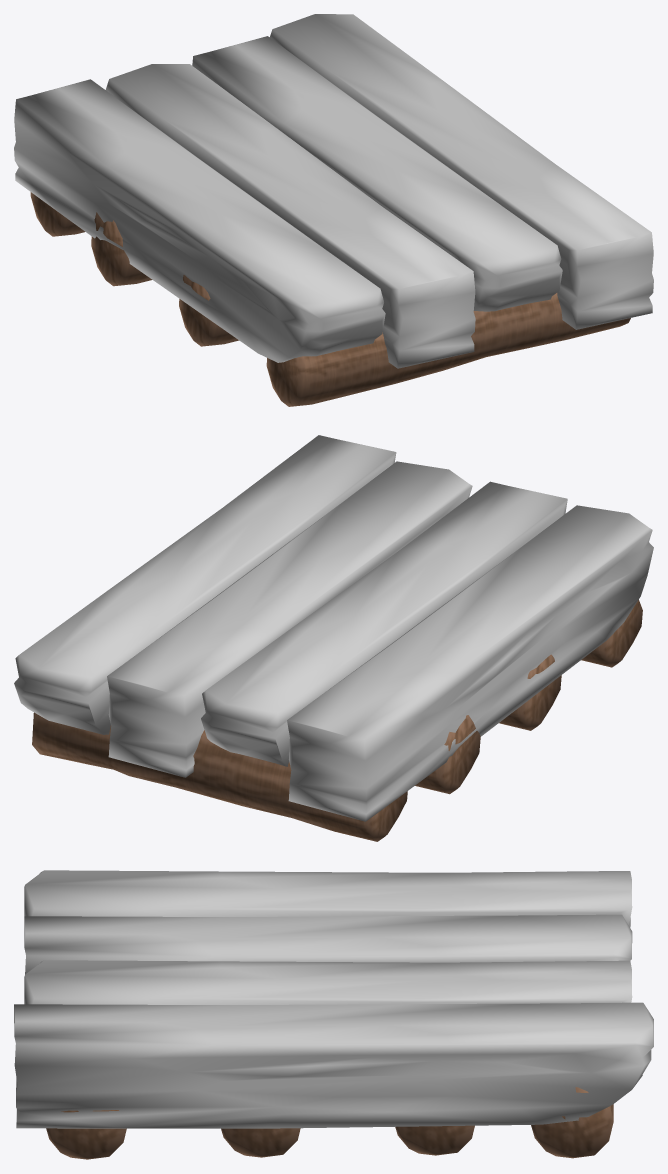
The model's file is SM_platform_small_rect.fbx.
3 renders of one model, top to bottom at view 1: azimuth 30°, elevation 25°; view 2: azimuth 150°, elevation 25°; view 3: azimuth 270°, elevation 25°, orthographic. The views are drawn at different scales.
Parts seen in each view (by area): view 1: platform_small_rect; view 2: platform_small_rect; view 3: platform_small_rect.
Boxes of the visible parts, x1,y1,x2,y2 form: platform_small_rect: (14,14,653,406); platform_small_rect: (14,435,653,841); platform_small_rect: (14,870,653,1159).
Size of the model in its own units: 219 by 74.05 by 337.
